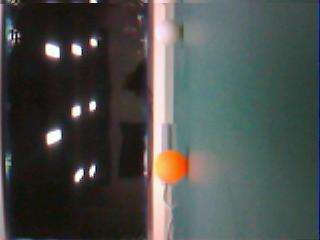oball: (153, 150, 187, 183)
